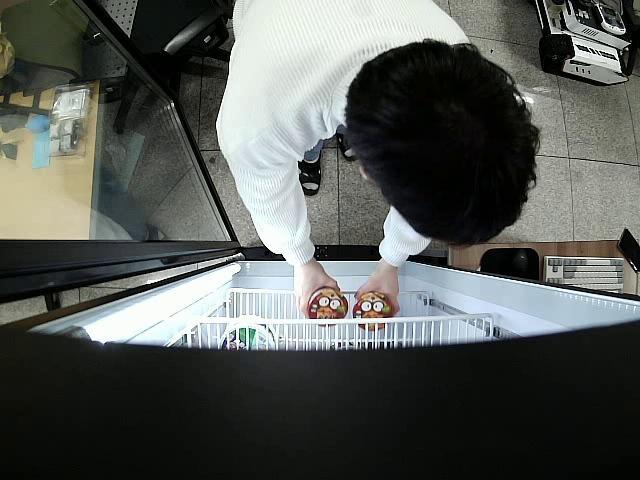06_nuguri_S: (353, 289, 396, 332), (306, 286, 348, 328)
